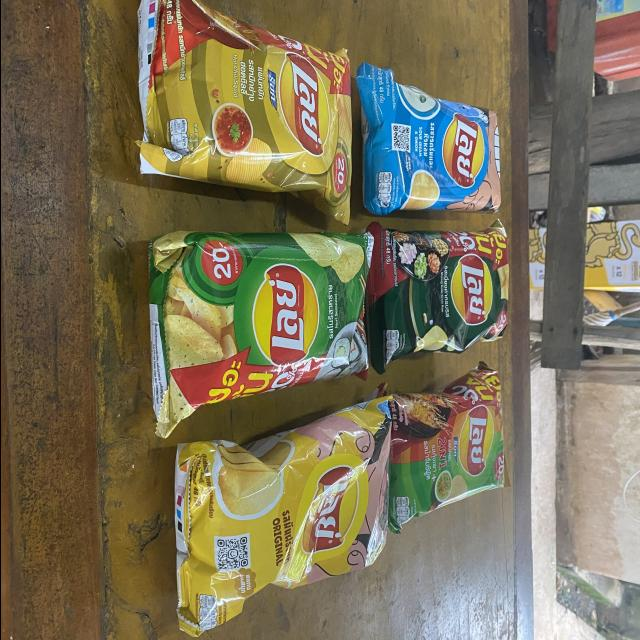plastik: (173, 397, 390, 637), (137, 0, 350, 222), (149, 231, 371, 437), (356, 63, 500, 214), (365, 221, 507, 373), (388, 364, 506, 532)
